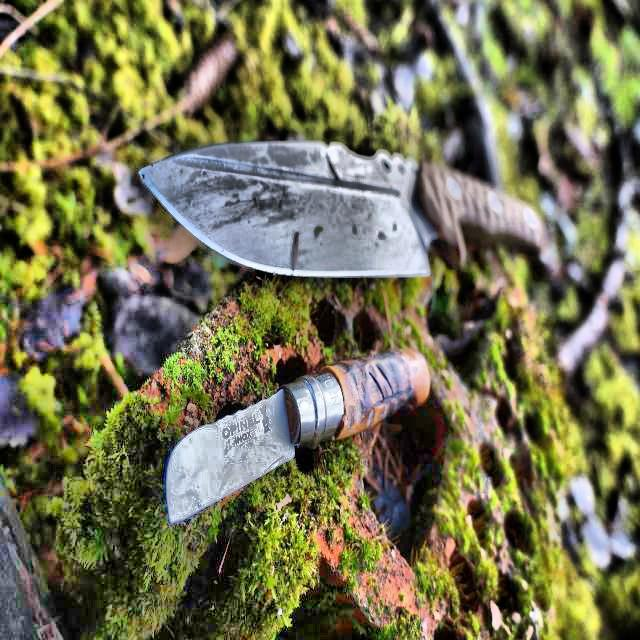knife: (140, 137, 548, 274), (161, 348, 435, 532)
